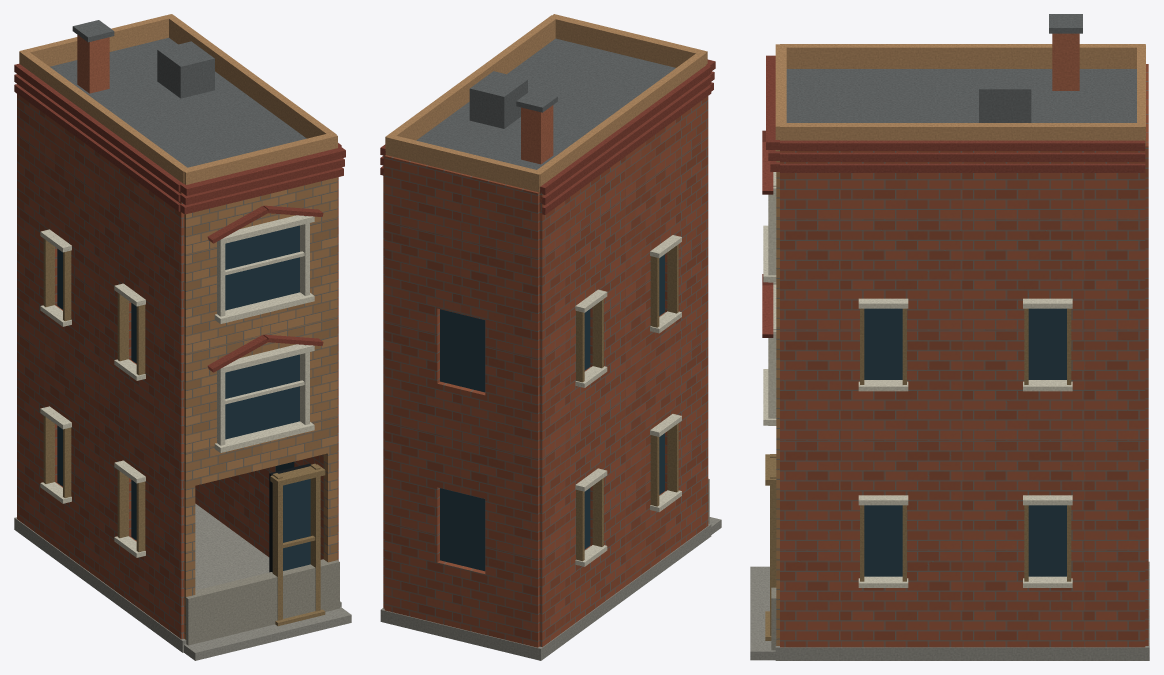
Rendered from VICT1B_lod2.glb.
The picture shows the model from 3 angles, left to right: view 1: azimuth 30°, elevation 25°; view 2: azimuth 150°, elevation 25°; view 3: azimuth 270°, elevation 25°; orthographic projection. The views are drawn at different scales.
Parts seen in each view (by area): view 1: VICT1B_LOD2; view 2: VICT1B_LOD2; view 3: VICT1B_LOD2.
Part boxes in pixels (x1,y1,x2,y2): VICT1B_LOD2: (14, 14, 351, 660); VICT1B_LOD2: (380, 14, 721, 660); VICT1B_LOD2: (750, 14, 1149, 660).
Size of the model in its own units: 3.71 by 10.45 by 6.57.
Materials: 12 (10 with a texture image).
